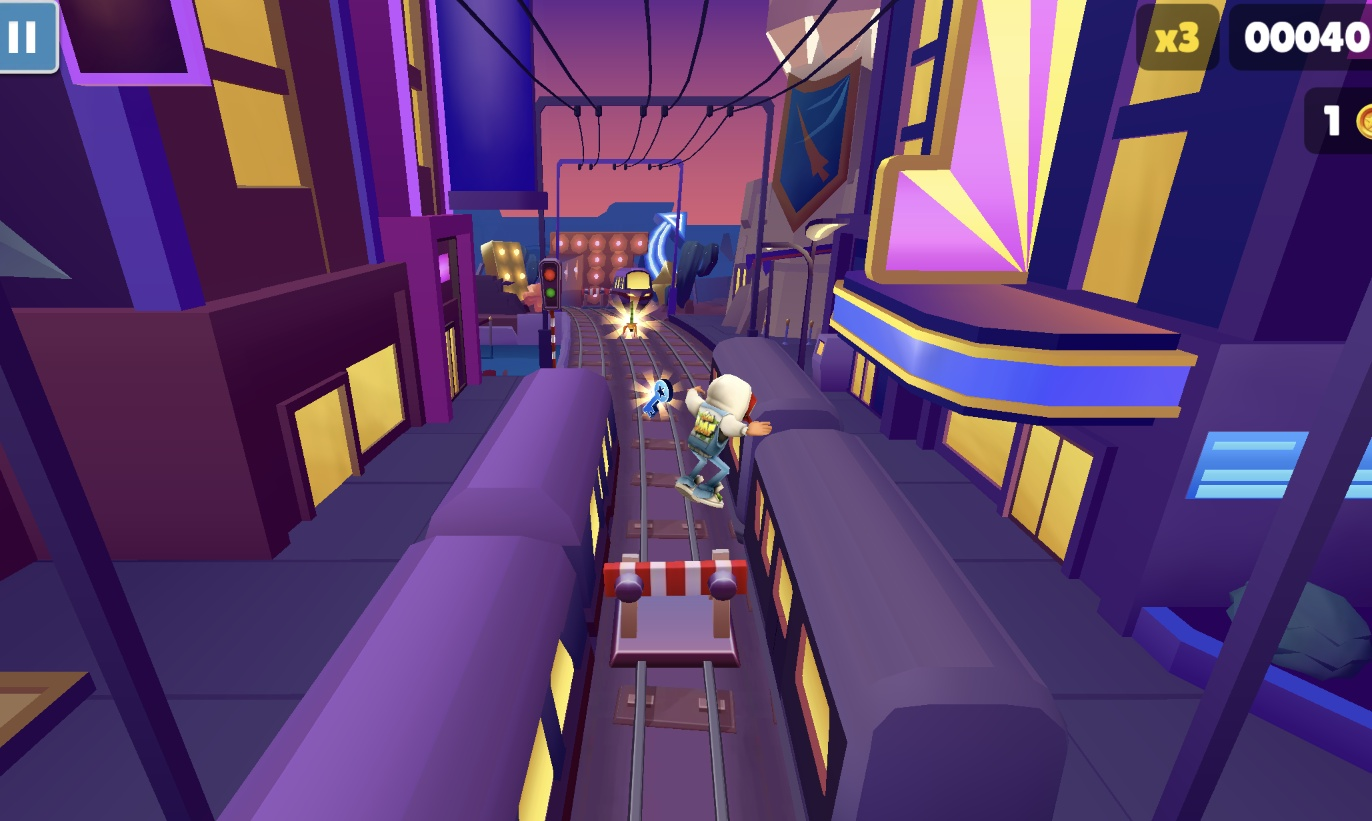ground_barrier: (598, 558, 751, 668), (593, 296, 619, 315)
pillar: (578, 246, 668, 313)
train: (701, 332, 1068, 821), (236, 370, 628, 821), (611, 273, 653, 316)
